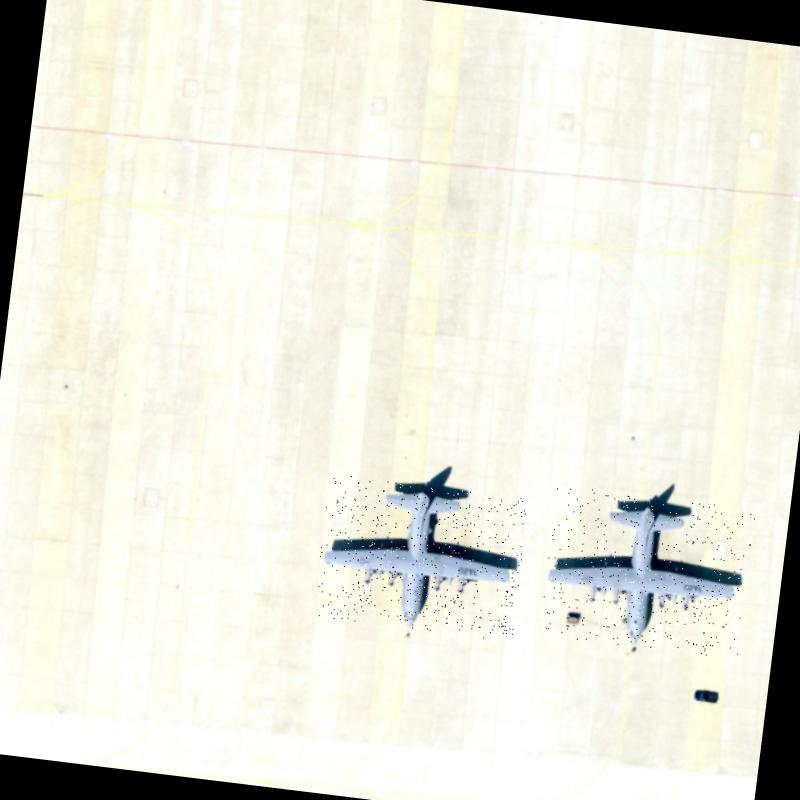A2: (538, 485, 756, 659), (312, 473, 529, 641)
